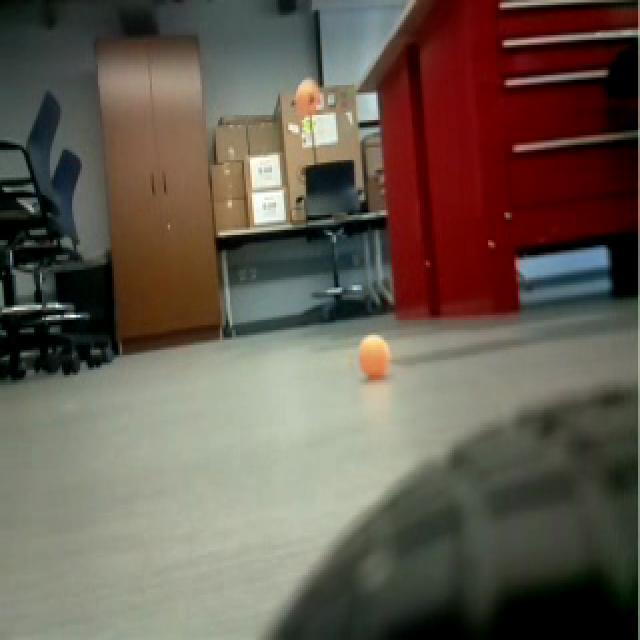ping-pong-ball: (352, 326, 392, 381)
